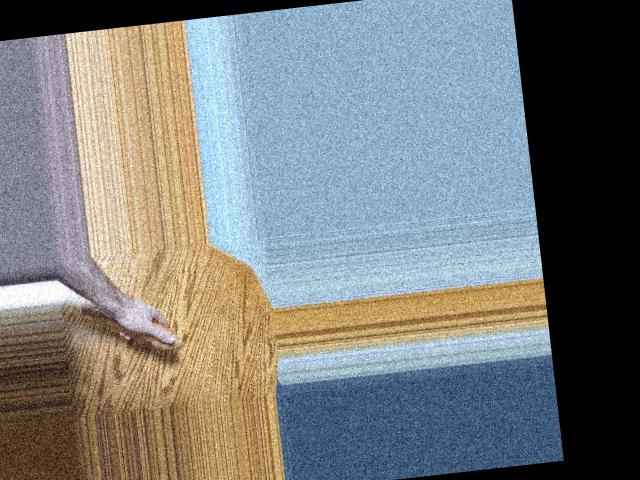sweet_potato: (63, 292, 185, 363)
